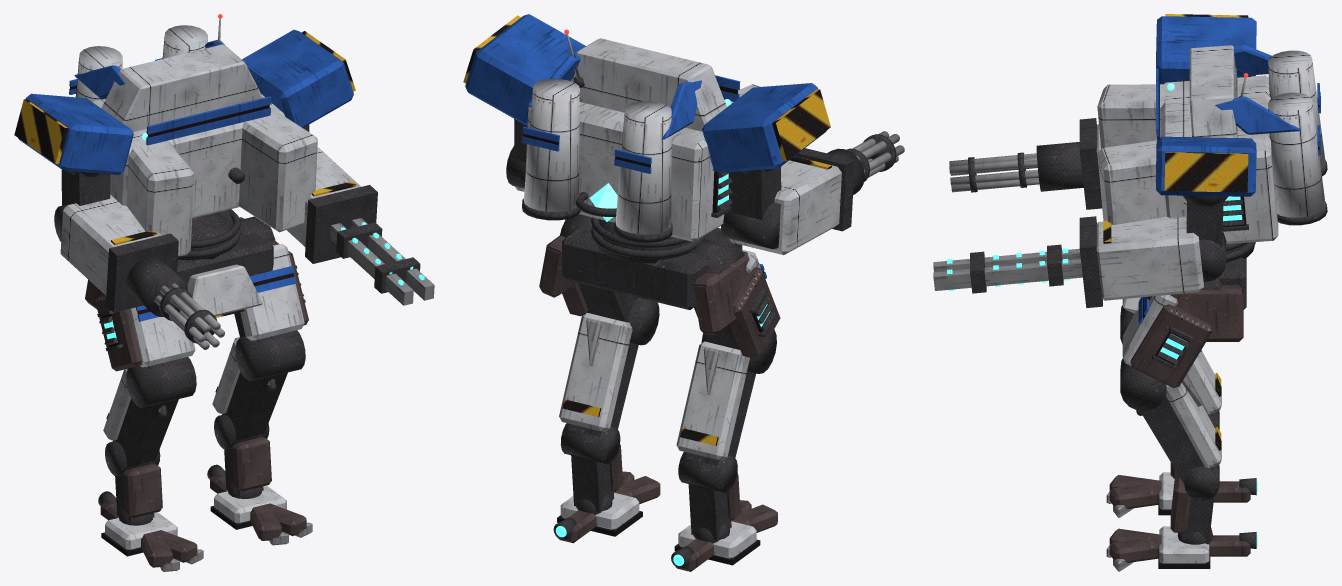
Rendered from mech_breeze.glb.
The picture shows the model from 3 angles, left to right: view 1: azimuth 30°, elevation 25°; view 2: azimuth 150°, elevation 25°; view 3: azimuth 270°, elevation 25°; orthographic projection. The views are drawn at different scales.
Parts seen in each view (by area): view 1: torso_breeze_armor, shoulder_L_breeze_livery, shoulder_R_breeze_livery, forearm_R_breeze_armor, forearm_L_breeze_frame, torso_breeze_livery, thigh_L_breeze_armor, forearm_R_breeze_frame, pelvis_breeze_armor, hand_L_breeze_metal, shin_L_breeze_dark, shin_L_breeze_frame (+27 smaller); view 2: torso_breeze_armor, shoulder_L_breeze_livery, pelvis_breeze_frame, shoulder_R_breeze_livery, shin_L_breeze_armor, shin_R_breeze_armor, forearm_R_breeze_armor, pelvis_breeze_armor2, torso_breeze_livery, shoulder_R_breeze_hazard, thigh_R_breeze_frame, thigh_R_breeze_armor2 (+28 smaller); view 3: torso_breeze_armor, forearm_L_breeze_armor, shoulder_R_breeze_livery, hand_L_breeze_metal, shoulder_L_breeze_hazard, thigh_L_breeze_armor2, torso_breeze_livery, shoulder_L_breeze_livery, pelvis_breeze_armor2, hand_R_breeze_metal, shin_L_breeze_frame, shin_L_breeze_armor (+23 smaller).
Part boxes in pixels (x1=…): torso_breeze_armor: x1=75, y1=25, x2=317, y2=256; shoulder_L_breeze_livery: x1=242, y1=29, x2=353, y2=127; shoulder_R_breeze_livery: x1=18, y1=93, x2=133, y2=174; forearm_R_breeze_armor: x1=60, y1=194, x2=161, y2=295; forearm_L_breeze_frame: x1=305, y1=185, x2=377, y2=263; torso_breeze_livery: x1=69, y1=39, x2=271, y2=145; thigh_L_breeze_armor: x1=240, y1=243, x2=304, y2=340; forearm_R_breeze_frame: x1=105, y1=233, x2=178, y2=312; pelvis_breeze_armor: x1=187, y1=264, x2=262, y2=316; hand_L_breeze_metal: x1=330, y1=218, x2=434, y2=305; shin_L_breeze_dark: x1=235, y1=330, x2=305, y2=381; shin_L_breeze_frame: x1=222, y1=372, x2=287, y2=440; torso_breeze_armor: x1=523, y1=38, x2=760, y2=241; shoulder_L_breeze_livery: x1=465, y1=14, x2=585, y2=125; pelvis_breeze_frame: x1=562, y1=226, x2=742, y2=309; shoulder_R_breeze_livery: x1=702, y1=83, x2=826, y2=172; shin_L_breeze_armor: x1=559, y1=313, x2=632, y2=431; shin_R_breeze_armor: x1=676, y1=341, x2=749, y2=460; forearm_R_breeze_armor: x1=729, y1=156, x2=841, y2=255; pelvis_breeze_armor2: x1=539, y1=235, x2=749, y2=335; torso_breeze_livery: x1=522, y1=54, x2=740, y2=173; shoulder_R_breeze_hazard: x1=772, y1=89, x2=830, y2=161; thigh_R_breeze_frame: x1=690, y1=239, x2=776, y2=349; thigh_R_breeze_armor2: x1=730, y1=267, x2=780, y2=358; torso_breeze_armor: x1=1097, y1=45, x2=1325, y2=244; forearm_L_breeze_armor: x1=1096, y1=216, x2=1203, y2=300; shoulder_R_breeze_livery: x1=1156, y1=16, x2=1256, y2=84; hand_L_breeze_metal: x1=933, y1=248, x2=1082, y2=290; shoulder_L_breeze_hazard: x1=1164, y1=152, x2=1248, y2=192; thigh_L_breeze_armor2: x1=1130, y1=304, x2=1212, y2=387; torso_breeze_livery: x1=1156, y1=45, x2=1320, y2=155; shoulder_L_breeze_livery: x1=1155, y1=136, x2=1256, y2=196; pelvis_breeze_armor2: x1=1170, y1=285, x2=1243, y2=341; hand_R_breeze_metal: x1=949, y1=153, x2=1039, y2=192; shin_L_breeze_frame: x1=1136, y1=396, x2=1213, y2=484; shin_L_breeze_armor: x1=1166, y1=383, x2=1221, y2=468.
Bounding box in the file's own units: 7.79 × 12 × 8.75.
Materials: 13 (7 with a texture image).
